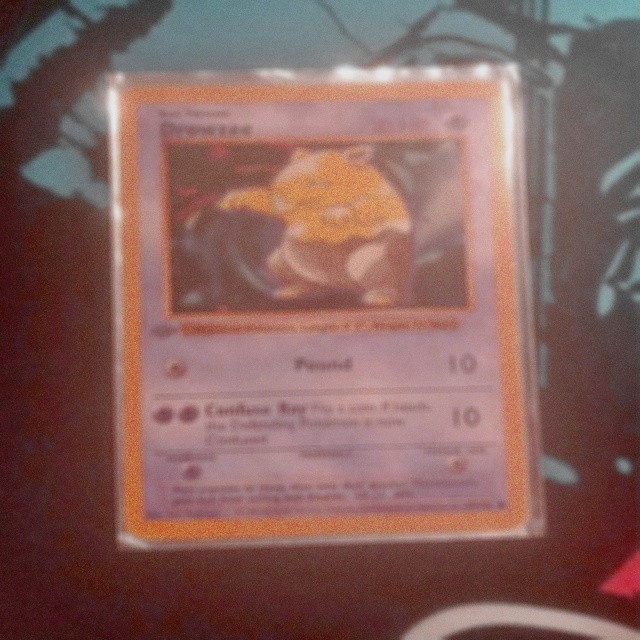card: (117, 79, 531, 540)
